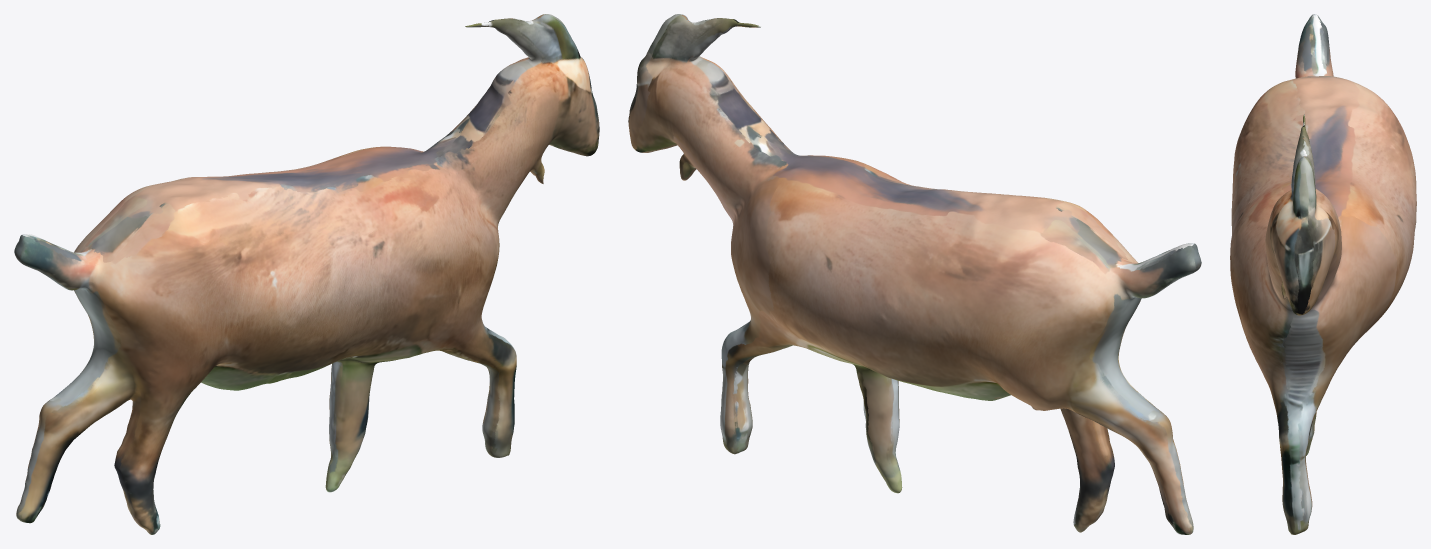
Rendered from joven.glb.
3 views of the same model, side by side, from view 1: azimuth 30°, elevation 25°; view 2: azimuth 150°, elevation 25°; view 3: azimuth 270°, elevation 25° (orthographic). The views are drawn at different scales.
Visible parts, largest first — view 1: mesh; view 2: mesh; view 3: mesh.
Boxes of the visible parts, <box> form: mesh: <box>14,14,599,534</box>; mesh: <box>628,14,1201,534</box>; mesh: <box>1230,14,1416,534</box>.
Bounding box in the file's own units: 1.75 × 1.26 × 0.5274.
1 material, 1 textured.
